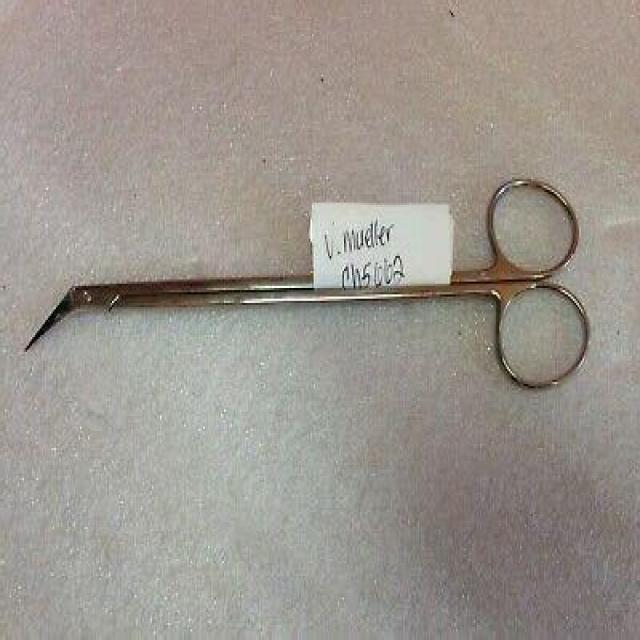Potts: (24, 166, 595, 404)
